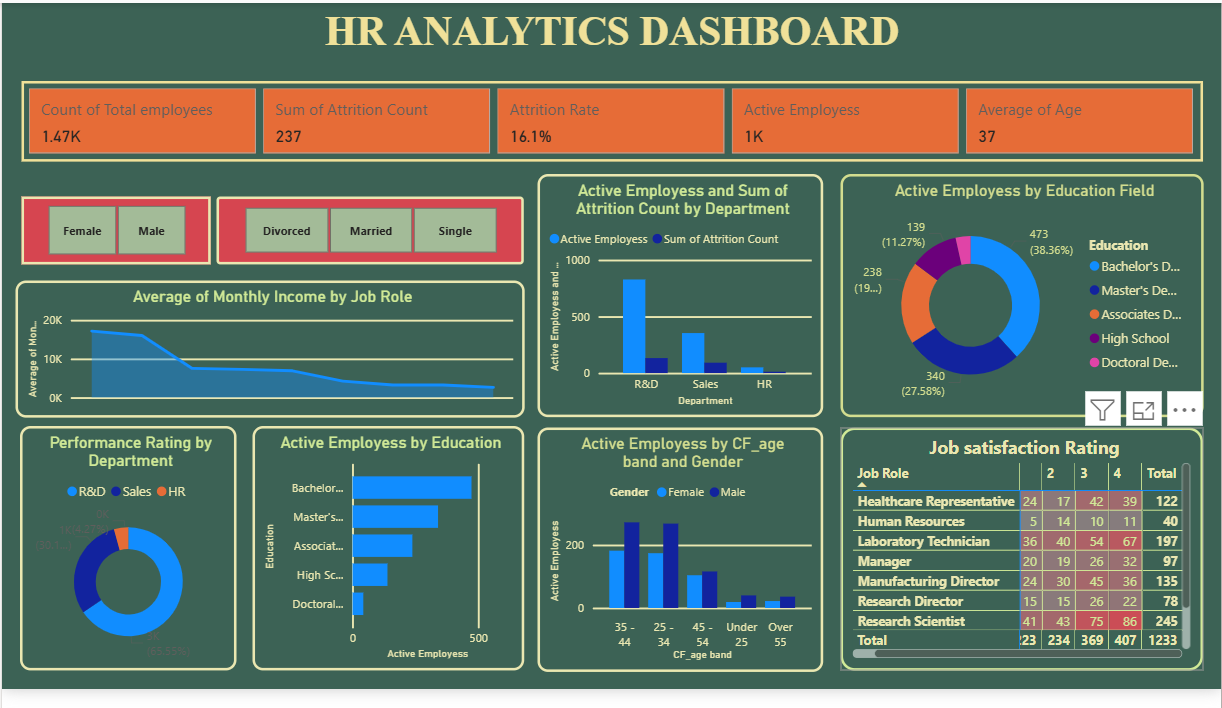

Layout of this report page (visuals, bound fields, positions):
{"tool":"powerbi","page":{"name":"Page 1","canvas":[1280,720],"ordinal":0},"visuals":[{"type":"clusteredColumnChart","fields":{"Category":["HR data.Department"],"Y":["HR data.Active Employess","Sum(HR data.Attrition Count)"]},"box":[562.3,179.7,300,255.1],"z":0},{"type":"donutChart","title":"Active Employess by Education Field","fields":{"Y":["HR data.Active Employess"],"Category":["HR data.Education"]},"box":[881.2,179.7,381.2,255.1],"z":1000},{"type":"clusteredColumnChart","fields":{"Y":["HR data.Active Employess"],"Category":["HR data.CF_age band"],"Series":["HR data.Gender"]},"box":[562.3,446.4,300,256.5],"z":2000},{"type":"pivotTable","title":"Job satisfaction Rating","fields":{"Rows":["HR data.Job Role"],"Columns":["HR data.Job Satisfaction"],"Values":["HR data.Active Employess"]},"box":[881,445.6,380.8,255.2],"z":3000},{"type":"donutChart","title":" Performance Rating by Department","fields":{"Y":["Sum(HR data.Performance Rating)"],"Category":["HR data.Department"]},"box":[18.8,444.9,227.5,256.5],"z":4000},{"type":"clusteredBarChart","fields":{"Category":["HR data.Education"],"Y":["HR data.Active Employess"]},"box":[263.8,444.9,285.5,256.5],"z":5000},{"type":"areaChart","fields":{"Category":["HR data.Job Role"],"Y":["Avg(HR data.Monthly Income)"]},"box":[13.6,290.9,534.8,143.9],"z":6000},{"type":"slicer","fields":{"Values":["HR data.Gender"]},"box":[19.7,203,198.5,71.2],"z":7000},{"type":"slicer","fields":{"Values":["HR data.Marital Status"]},"box":[225.8,203,322.7,71.2],"z":8000},{"type":"textbox","box":[19.7,0,1243.3,64.9],"z":9000},{"type":"cardVisual","fields":{"Data":["CountNonNull(HR data.Employee Count)","Sum(HR data.Attrition Count)","HR data.Attrition Rate","HR data.Active Employess","Avg(HR data.Age)"]},"box":[19.7,81.8,1240.9,84.8],"z":10000}]}

Visuals, with their boxes in screenshot pixels (x1, y1, x2, y2), scaled from the page's 1280x720 canvas onto the 1222x708 screenshot:
clusteredColumnChart - HR data.Department x HR data.Active Employess: [left=537, top=177, right=823, bottom=428]
"Active Employess by Education Field" donutChart: [left=841, top=177, right=1205, bottom=428]
clusteredColumnChart - HR data.Active Employess x HR data.CF_age band: [left=537, top=439, right=823, bottom=691]
"Job satisfaction Rating" pivotTable: [left=841, top=438, right=1205, bottom=689]
" Performance Rating by Department" donutChart: [left=18, top=437, right=235, bottom=690]
clusteredBarChart - HR data.Education x HR data.Active Employess: [left=252, top=437, right=524, bottom=690]
areaChart - HR data.Job Role x Avg(HR data.Monthly Income): [left=13, top=286, right=524, bottom=428]
slicer - HR data.Gender: [left=19, top=200, right=208, bottom=270]
slicer - HR data.Marital Status: [left=216, top=200, right=524, bottom=270]
textbox: [left=19, top=0, right=1206, bottom=64]
cardVisual - CountNonNull(HR data.Employee Count) x Sum(HR data.Attrition Count): [left=19, top=80, right=1203, bottom=164]
